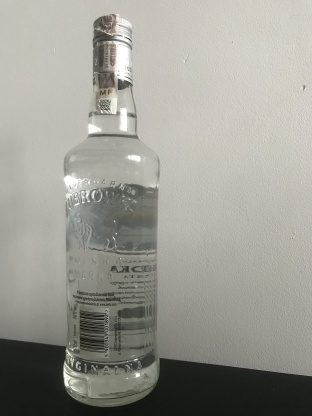nakretka: (90, 10, 134, 87)
